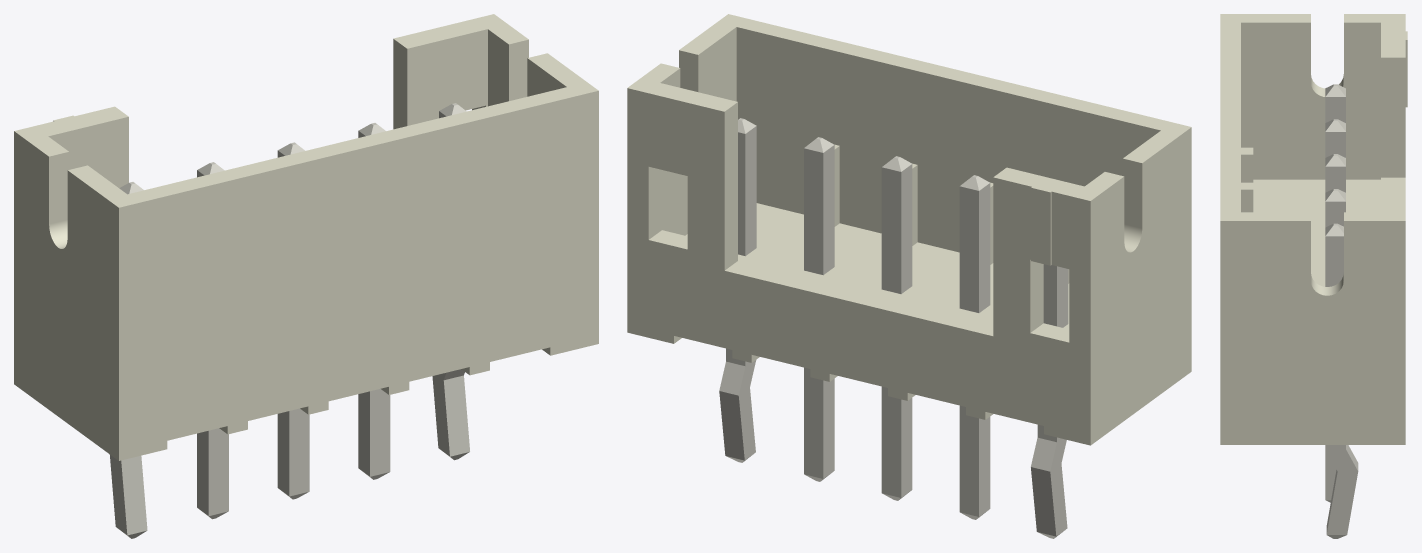
The model's file is Connector_JST__JST_PH_B5B-PH-K_1x05_P2.00mm_Vertical.glb.
3 views of the same model, side by side, from view 1: azimuth 30°, elevation 25°; view 2: azimuth 150°, elevation 25°; view 3: azimuth 270°, elevation 25° (orthographic). The views are drawn at different scales.
Visible parts, largest first — view 1: JST_B5B_PH_K; view 2: JST_B5B_PH_K; view 3: JST_B5B_PH_K.
Part boxes in pixels (<box>): JST_B5B_PH_K: <box>14,14,598,538</box>; JST_B5B_PH_K: <box>627,14,1191,538</box>; JST_B5B_PH_K: <box>1220,14,1407,538</box>.
Size of the model in its own units: 0.0119 by 0.0094 by 0.00455.
